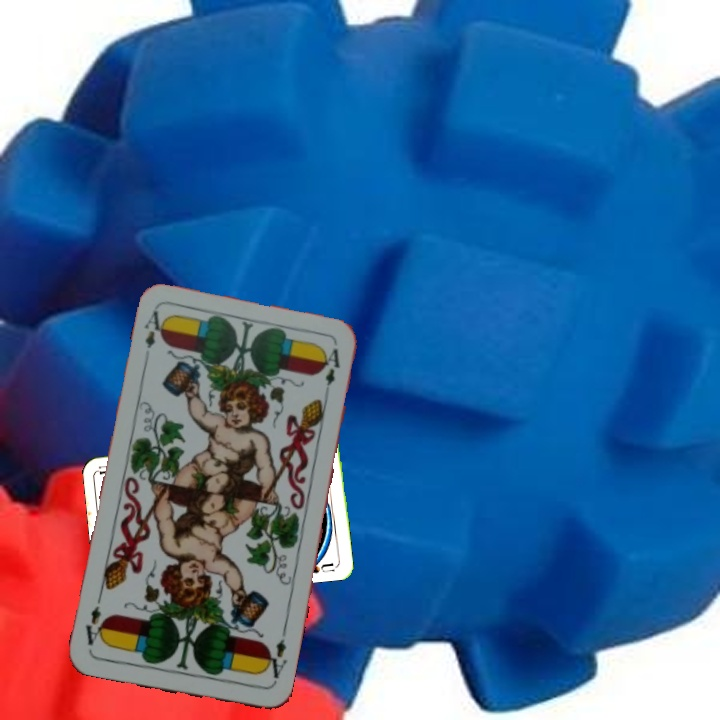EA: (260, 634, 290, 686), (140, 306, 169, 351)
